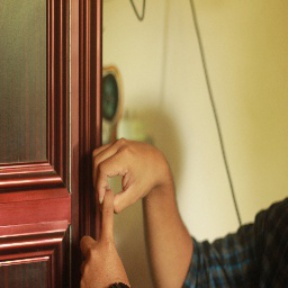Q: (67, 133, 166, 283)
